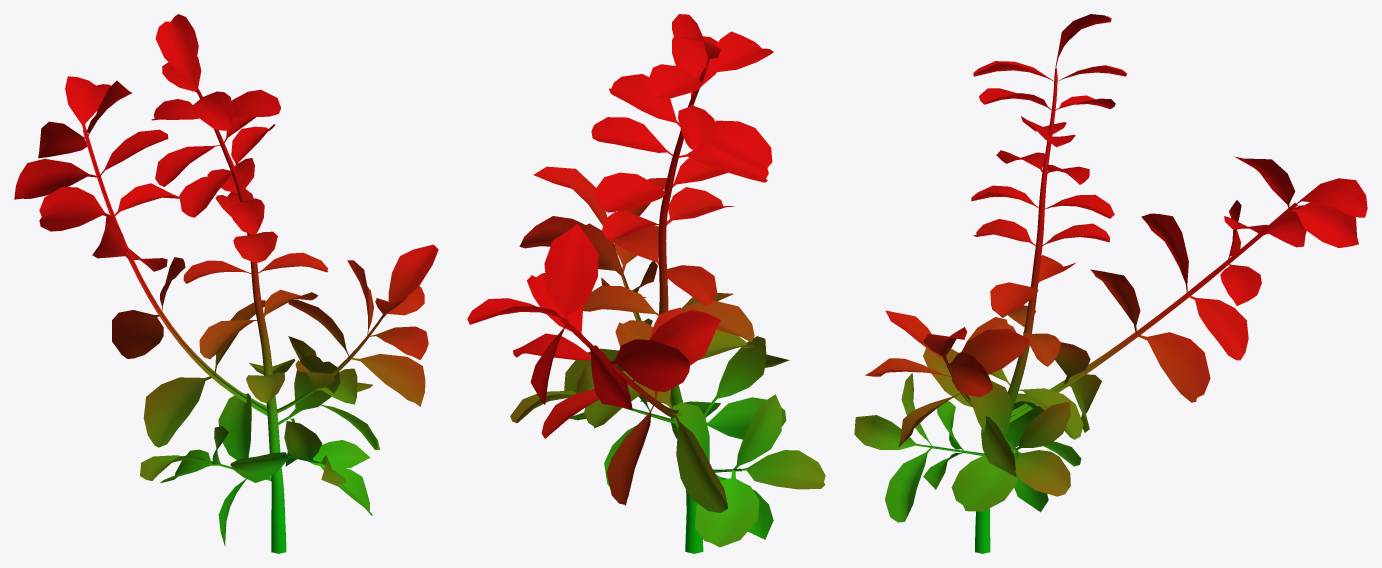
File: Var5_LOD0.fbx
3 renders of one model, left to right at view 1: azimuth 30°, elevation 25°; view 2: azimuth 150°, elevation 25°; view 3: azimuth 270°, elevation 25°, orthographic. The views are drawn at different scales.
Visible parts, largest first — view 1: _w9ne_Var5_LOD0; view 2: _w9ne_Var5_LOD0; view 3: _w9ne_Var5_LOD0.
Boxes of the visible parts, x1,y1,x2,y2 form: _w9ne_Var5_LOD0: (14,14,438,553); _w9ne_Var5_LOD0: (467,14,825,553); _w9ne_Var5_LOD0: (854,14,1367,553).
Bounding box in the file's own units: 33.66 × 60.2 × 54.23.
